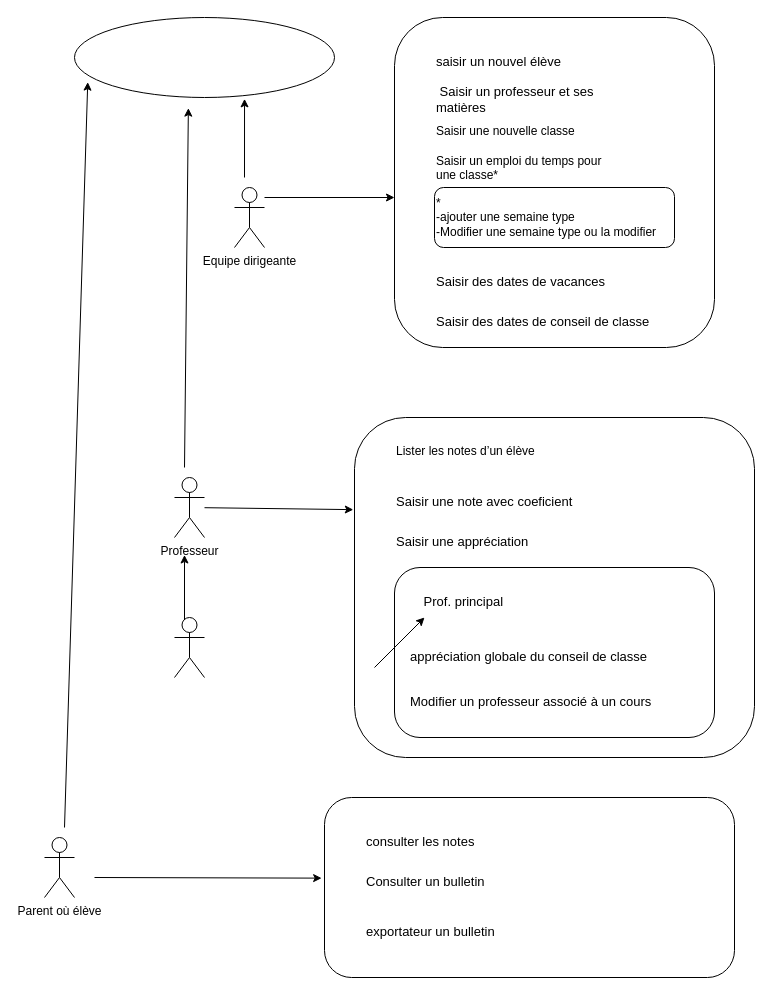
Some shapes in this 772 by 995 pixel diagram are drawn without their labels. The shapes that lost their labels are listed below. From the top down, each one's centre as x and y in pixels, then its label:
the point at 204,57: Authentification
the point at 189,647: Professeur-principal
